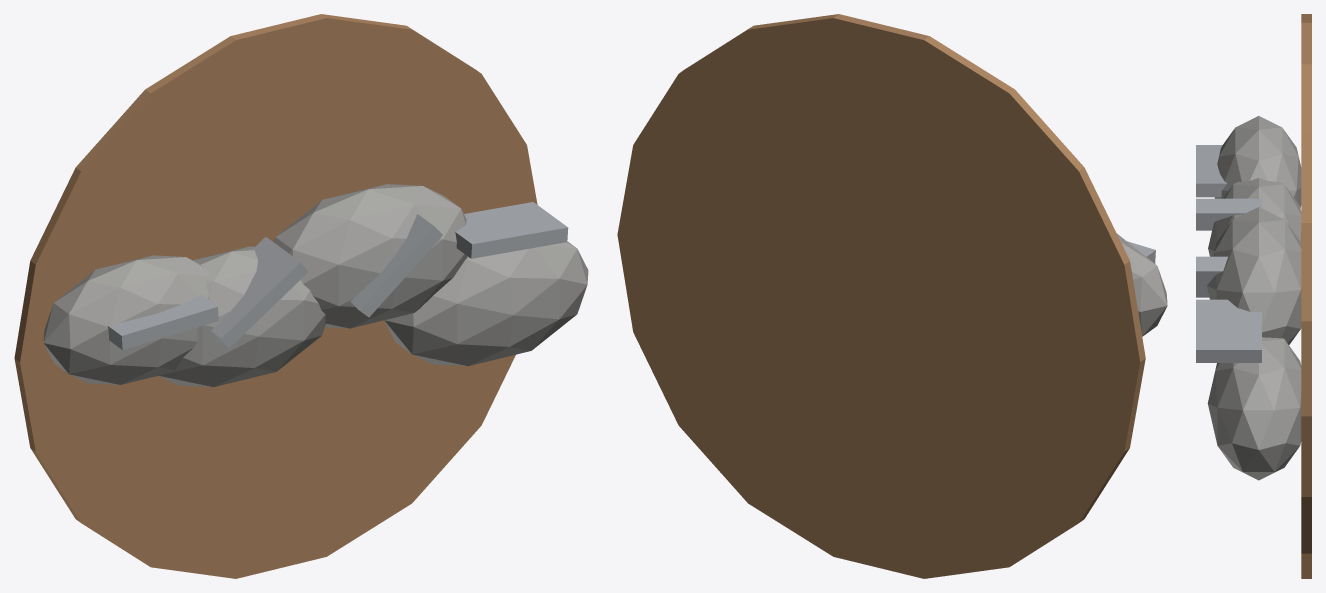
File: 02_local_prop_cluster.glb
3 views of the same model, side by side, from view 1: azimuth 30°, elevation 25°; view 2: azimuth 150°, elevation 25°; view 3: azimuth 270°, elevation 25° (orthographic). The views are drawn at different scales.
Parts seen in each view (by area): view 1: scatter_base, scrap_rock_2, scrap_rock_3, scrap_rock_0, scrap_rock_1, scrap_plate_3, scrap_plate_1, scrap_plate_0, scrap_plate_2; view 2: scatter_base, scrap_rock_0; view 3: scrap_rock_3, scrap_rock_2, scatter_base, scrap_rock_0, scrap_plate_3, scrap_rock_1, scrap_plate_1, scrap_plate_0, scrap_plate_2.
Boxes of the visible parts, x1,y1,x2,y2 form: scatter_base: (14, 14, 537, 578); scrap_rock_2: (274, 184, 467, 328); scrap_rock_3: (384, 241, 588, 366); scrap_rock_0: (43, 255, 209, 384); scrap_rock_1: (158, 246, 325, 387); scrap_plate_3: (455, 202, 568, 258); scrap_plate_1: (211, 237, 307, 348); scrap_plate_0: (107, 294, 218, 349); scrap_plate_2: (350, 214, 442, 317); scatter_base: (617, 14, 1145, 578); scrap_rock_0: (1117, 234, 1167, 336); scrap_rock_3: (1207, 337, 1301, 480); scrap_rock_2: (1207, 207, 1301, 344); scatter_base: (1301, 14, 1311, 578); scrap_rock_0: (1214, 116, 1301, 207); scrap_plate_3: (1196, 299, 1261, 362); scrap_rock_1: (1208, 178, 1301, 256); scrap_plate_1: (1196, 198, 1261, 230); scrap_plate_0: (1196, 145, 1227, 197); scrap_plate_2: (1196, 256, 1227, 297).
Size of the model in its own units: 1.98 by 1.87 by 0.3875.
